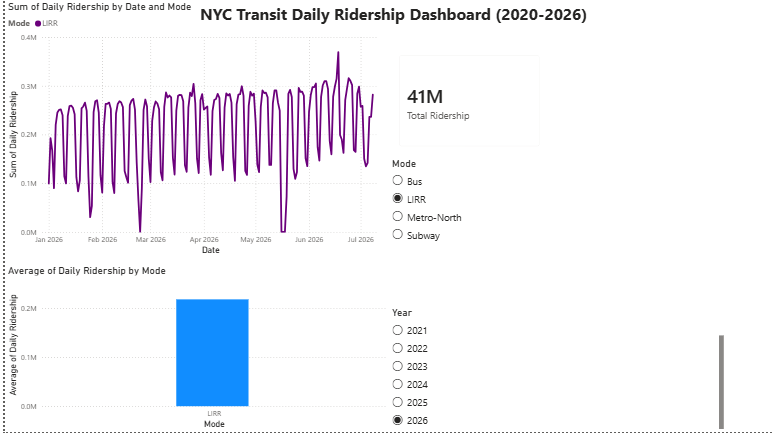

The page's visual inventory and layout, read from the dashboard file:
{"tool":"powerbi","page":{"name":"Page 1","canvas":[1280,720],"ordinal":0},"visuals":[{"type":"lineChart","fields":{"Series":["MTA_Daily_Ridership_and_Traffic__Beginning_2020_20260710.Mode"],"Y":["Sum(MTA_Daily_Ridership_and_Traffic__Beginning_2020_20260710.Daily Ridership)"],"Category":["MTA_Daily_Ridership_and_Traffic__Beginning_2020_20260710.Date"]},"box":[0,0,640,430],"z":0},{"type":"clusteredColumnChart","fields":{"Category":["MTA_Daily_Ridership_and_Traffic__Beginning_2020_20260710.Mode"],"Y":["Avg(MTA_Daily_Ridership_and_Traffic__Beginning_2020_20260710.Daily Ridership)"]},"box":[0,440,640,280],"z":1000},{"type":"cardVisual","fields":{"Data":["MTA_Daily_Ridership_and_Traffic__Beginning_2020_20260710.Total Ridership"]},"box":[640,75,268.3,186.7],"z":2000},{"type":"listSlicer","fields":{"Values":["MTA_Daily_Ridership_and_Traffic__Beginning_2020_20260710.Mode"]},"box":[640,261.7,563.3,248.3],"z":2001},{"type":"listSlicer","fields":{"Values":["MTA_Daily_Ridership_and_Traffic__Beginning_2020_20260710.Date.Variation.Date Hierarchy.Year"]},"box":[640,510,563.3,210],"z":2002},{"type":"textbox","box":[320,0,695,53.3],"z":2003}]}

Visuals, with their boxes in screenshot pixels (x1, y1, x2, y2), scaled from the page's 1280x720 canvas onto the 772x433 screenshot:
lineChart - MTA_Daily_Ridership_and_Traffic__Beginning_2020_20260710.Mode x Sum(MTA_Daily_Ridership_and_Traffic__Beginning_2020_20260710.Daily Ridership): [0, 0, 386, 259]
clusteredColumnChart - MTA_Daily_Ridership_and_Traffic__Beginning_2020_20260710.Mode x Avg(MTA_Daily_Ridership_and_Traffic__Beginning_2020_20260710.Daily Ridership): [0, 265, 386, 432]
cardVisual - MTA_Daily_Ridership_and_Traffic__Beginning_2020_20260710.Total Ridership: [386, 45, 548, 157]
listSlicer - MTA_Daily_Ridership_and_Traffic__Beginning_2020_20260710.Mode: [386, 157, 726, 307]
listSlicer - MTA_Daily_Ridership_and_Traffic__Beginning_2020_20260710.Date.Variation.Date Hierarchy.Year: [386, 307, 726, 432]
textbox: [193, 0, 612, 32]
